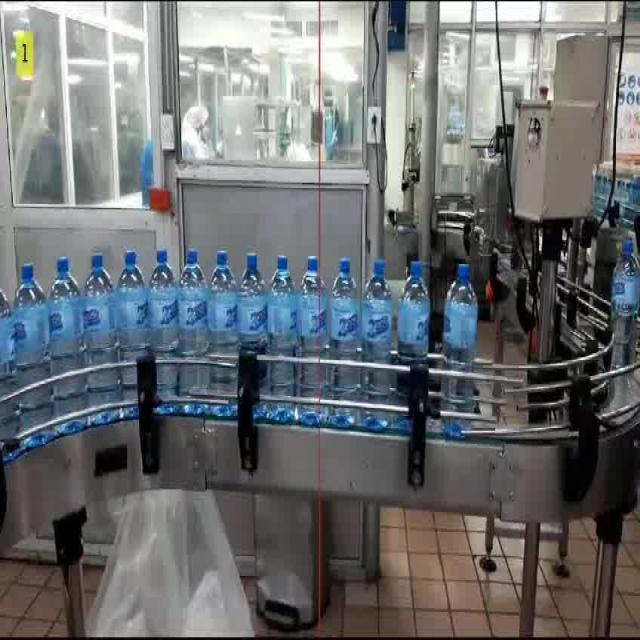bottle: (439, 261, 479, 420), (144, 246, 183, 394), (46, 258, 85, 406), (80, 252, 119, 399), (204, 250, 243, 397), (12, 258, 50, 406), (112, 248, 150, 394), (395, 259, 432, 400), (265, 253, 299, 397), (327, 255, 362, 394), (360, 257, 394, 396), (296, 254, 329, 397), (175, 247, 210, 357), (235, 251, 269, 352)
